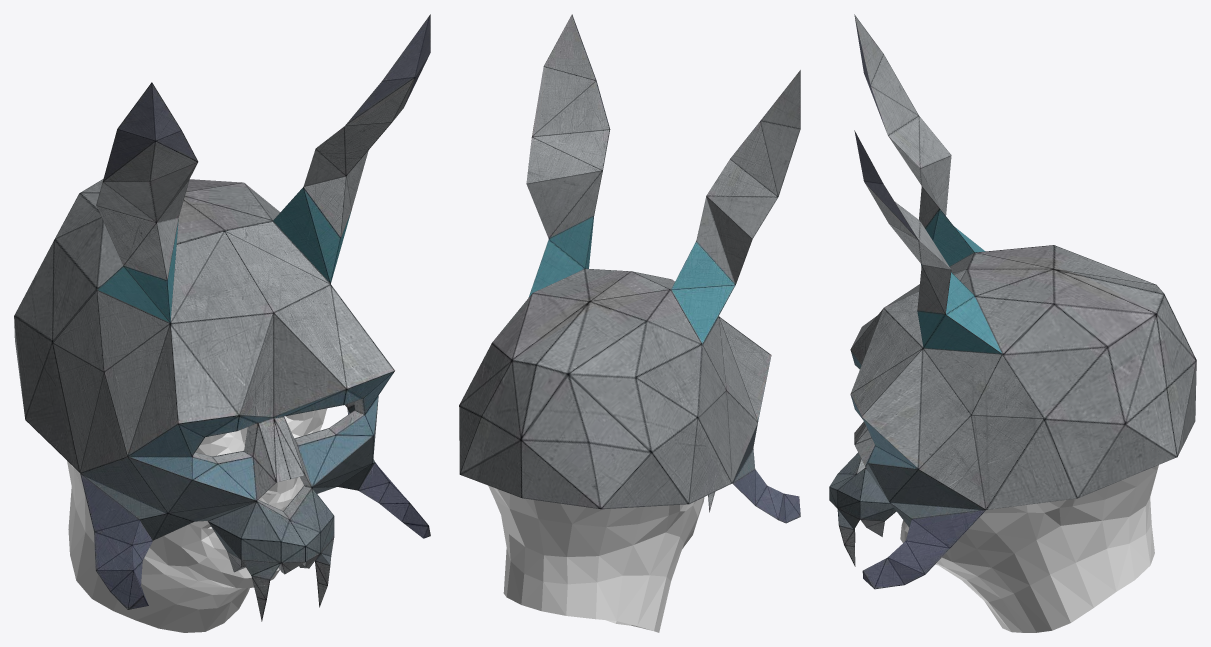
The model's file is creepy_rabbit.gltf.
3 views of the same model, side by side, from view 1: azimuth 30°, elevation 25°; view 2: azimuth 150°, elevation 25°; view 3: azimuth 270°, elevation 25° (orthographic). The views are drawn at different scales.
Visible parts, largest first — view 1: Object_3.001, head.002; view 2: Object_3.001, head.002; view 3: Object_3.001, head.002.
Boxes of the visible parts, x1,y1,x2,y2 form: Object_3.001: [14, 14, 430, 621]; head.002: [67, 408, 326, 632]; Object_3.001: [459, 14, 800, 523]; head.002: [488, 485, 704, 632]; Object_3.001: [829, 14, 1196, 589]; head.002: [900, 465, 1158, 632].
Size of the model in its own units: 275 by 542 by 327.
2 materials, 1 textured.
